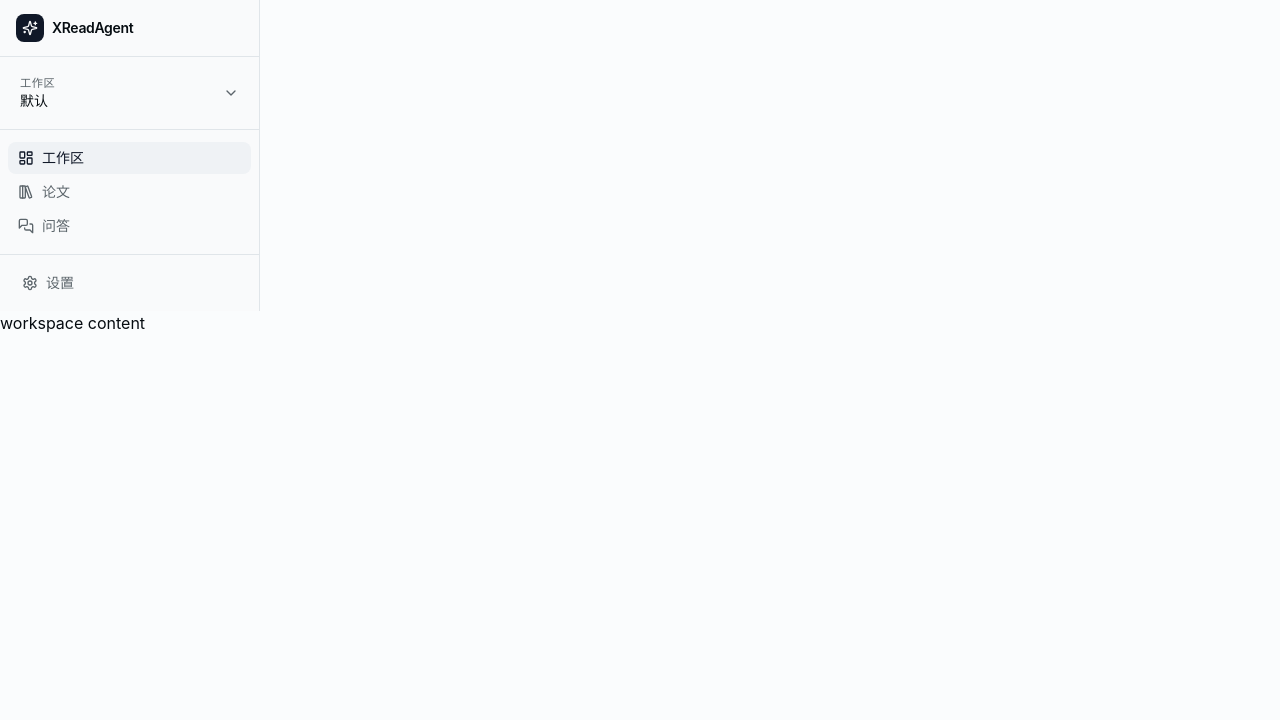
it: AppSidebar › opens the workspace manager from the switcher
Click the button "工作区 默认".
click(130, 93)  # box [12,69,247,117]
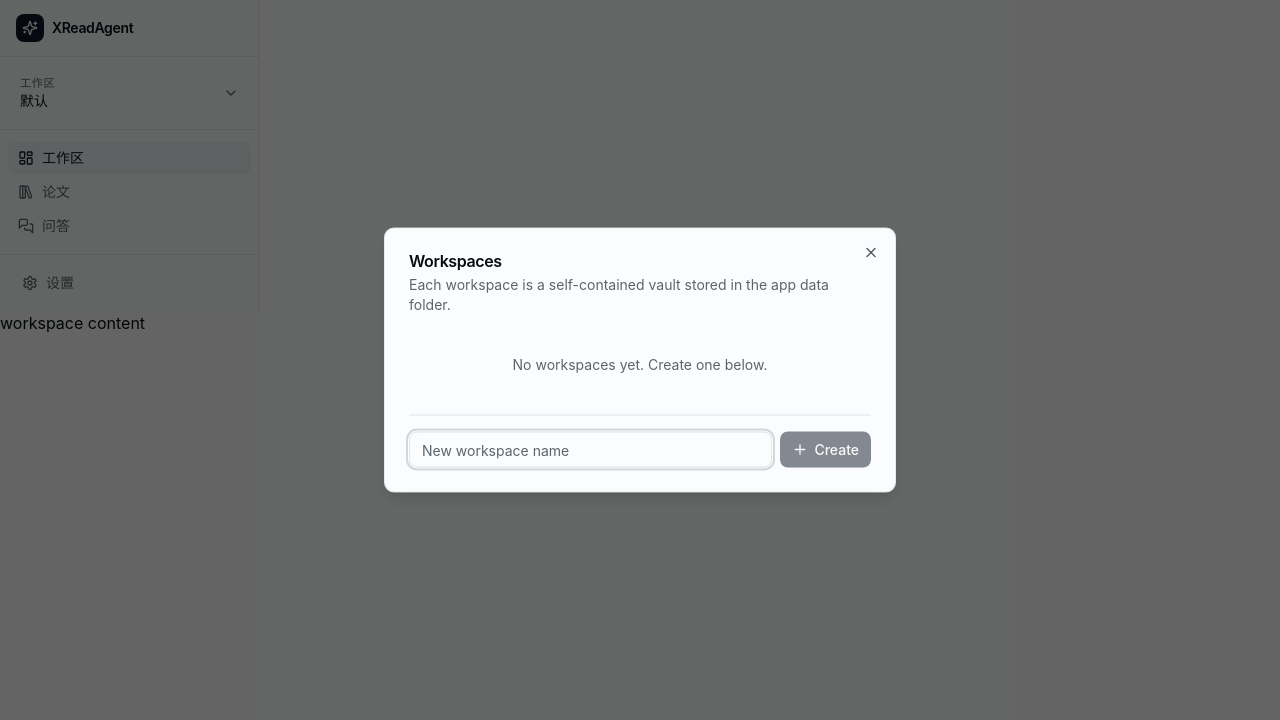
Expected: the field with placeholder "New workspace name" is shown, [409,432,772,468]
